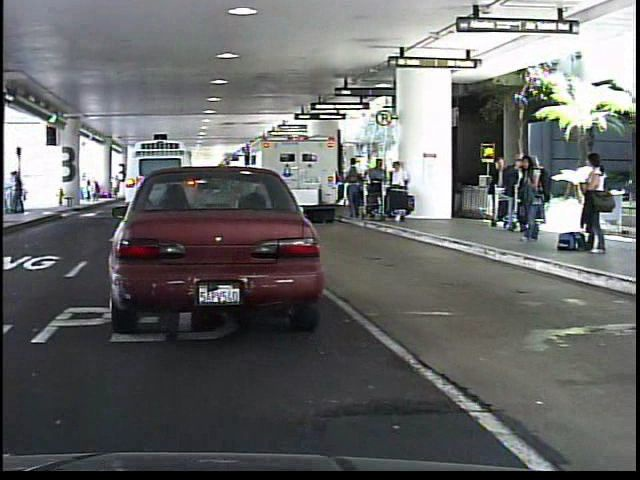person: (577, 147, 607, 259)
